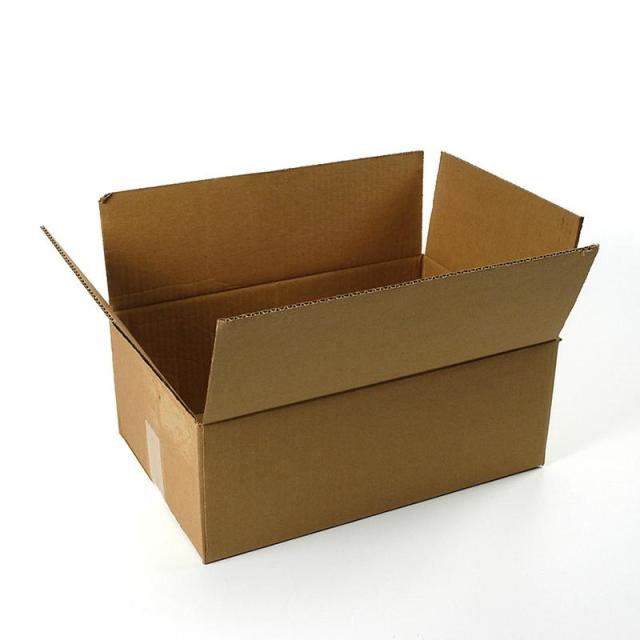cardboard: (41, 150, 599, 563)
